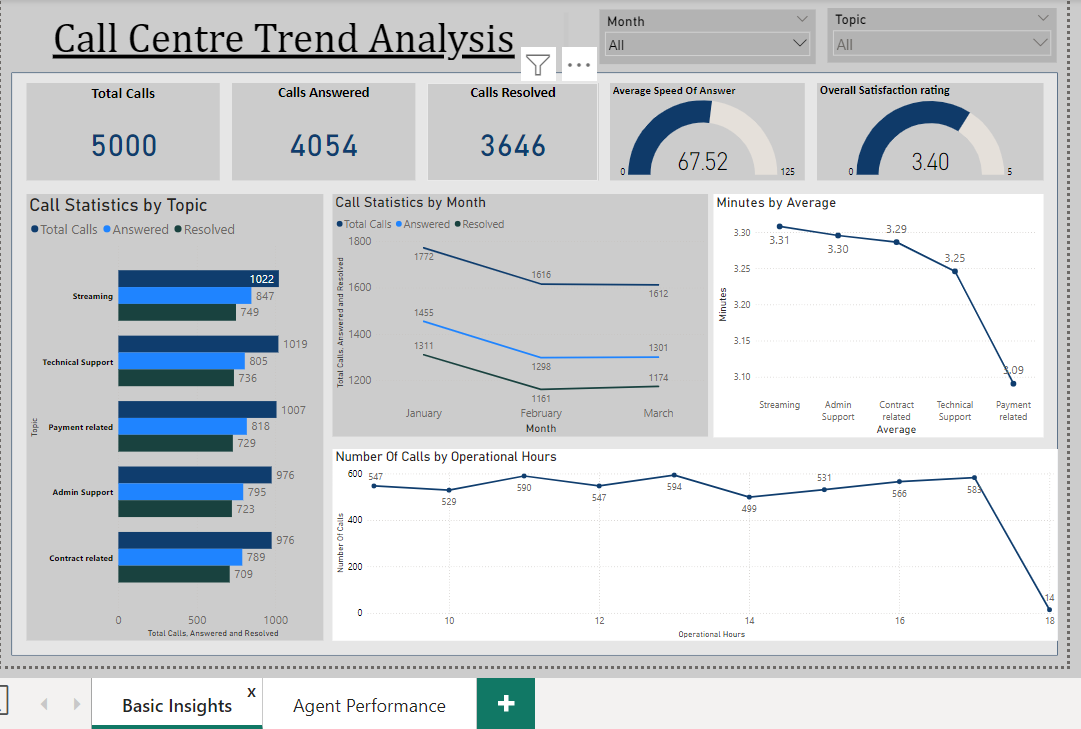

Layout of this report page (visuals, bound fields, positions):
{"tool":"powerbi","page":{"name":"Basic Insights","canvas":[1860,1164],"ordinal":0},"visuals":[{"type":"textbox","box":[0,17.5,995,92.5],"z":0},{"type":"slicer","fields":{"Values":["Sheet1.Date.Variation.Date Hierarchy.Month"]},"box":[1043.6,17.6,377.2,95.6],"z":1000},{"type":"slicer","fields":{"Values":["Sheet1.Topic"]},"box":[1443.4,15.1,399.8,95.6],"z":2000},{"type":"shape","box":[18.3,128.2,1825.8,1017.5],"z":3000},{"type":"gauge","title":"Overall Satisfaction rating","fields":{"Y":["Avg(Sheet1.Satisfaction rating)"]},"box":[1425,147.5,395,170],"z":4000},{"type":"gauge","title":"Average Speed Of Answer","fields":{"Y":["Avg(Sheet1.Speed of answer in seconds)"]},"box":[1062.5,147.5,340,170],"z":5000},{"type":"clusteredBarChart","title":"Call Statistics by Topic","fields":{"Category":["Sheet1.Topic"],"Y":["CountNonNull(Sheet1.Call Id)","Sheet1.AnsweredYes","Sheet1.ResolvedYes"]},"box":[44.5,340,517.9,779.5],"z":6000},{"type":"card","title":"Total Calls ","fields":{"Values":["CountNonNull(Sheet1.Call Id)"]},"box":[45,147.5,337.5,170],"z":7000},{"type":"card","title":"Calls Answered","fields":{"Values":["Sheet1.AnsweredYes"]},"box":[402.5,147.5,320,170],"z":8000},{"type":"card","title":"Calls Resolved","fields":{"Values":["Sheet1.ResolvedYes"]},"box":[742.5,147.5,300,170],"z":9000},{"type":"lineChart","title":"Call Statistics by Month","fields":{"Y":["Sheet1.Measure","Sheet1.AnsweredYes","Sheet1.ResolvedYes"],"Category":["Sheet1.Date.Variation.Date Hierarchy.Month"]},"box":[577.3,341,655.3,423.5],"z":10000},{"type":"lineChart","fields":{"Category":["Sheet1.Hour"],"Y":["Sheet1.Measure"]},"box":[578.1,784.7,1266,334.8],"z":11000},{"type":"lineChart","fields":{"Category":["Sheet1.Topic"],"Y":["Avg(Sheet1.Minutes)"]},"box":[1244.7,339.5,575.8,425],"z":12000}]}

Visuals, with their boxes on the page's 1860x1164 design canvas (x1, y1, x2, y2). These are canvas units, not pixel positions in the 1081x729 screenshot, which may show the page scaled, cropped or inside an application window:
textbox: bbox=(0, 18, 995, 110)
slicer - Sheet1.Date.Variation.Date Hierarchy.Month: bbox=(1044, 18, 1421, 113)
slicer - Sheet1.Topic: bbox=(1443, 15, 1843, 111)
shape: bbox=(18, 128, 1844, 1146)
"Overall Satisfaction rating" gauge: bbox=(1425, 148, 1820, 318)
"Average Speed Of Answer" gauge: bbox=(1062, 148, 1402, 318)
"Call Statistics by Topic" clusteredBarChart: bbox=(44, 340, 562, 1120)
"Total Calls " card: bbox=(45, 148, 382, 318)
"Calls Answered" card: bbox=(402, 148, 722, 318)
"Calls Resolved" card: bbox=(742, 148, 1042, 318)
"Call Statistics by Month" lineChart: bbox=(577, 341, 1233, 764)
lineChart - Sheet1.Hour x Sheet1.Measure: bbox=(578, 785, 1844, 1120)
lineChart - Sheet1.Topic x Avg(Sheet1.Minutes): bbox=(1245, 340, 1820, 764)
